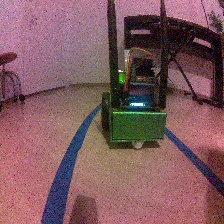rob: (100, 56, 167, 150)
